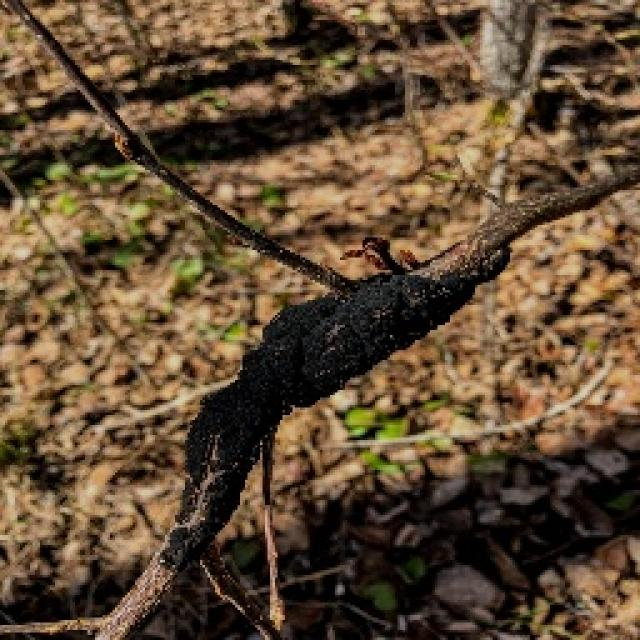Black_knot: (0, 0, 638, 638), (116, 224, 492, 560)
